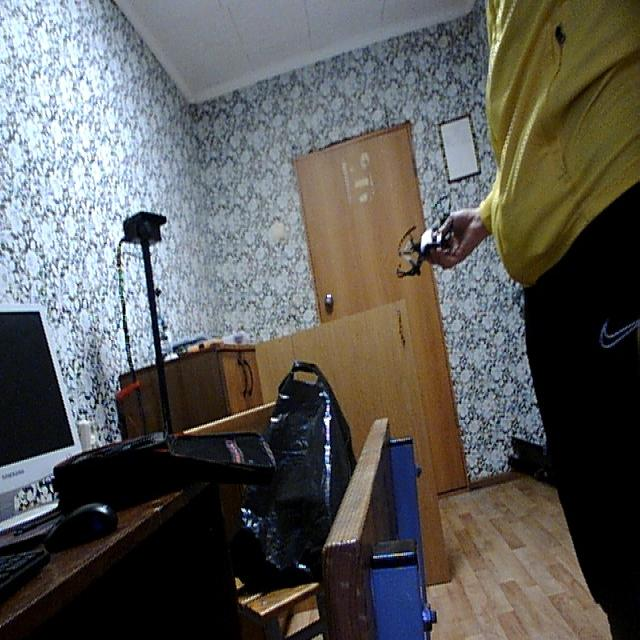drone: (394, 205, 464, 287)
